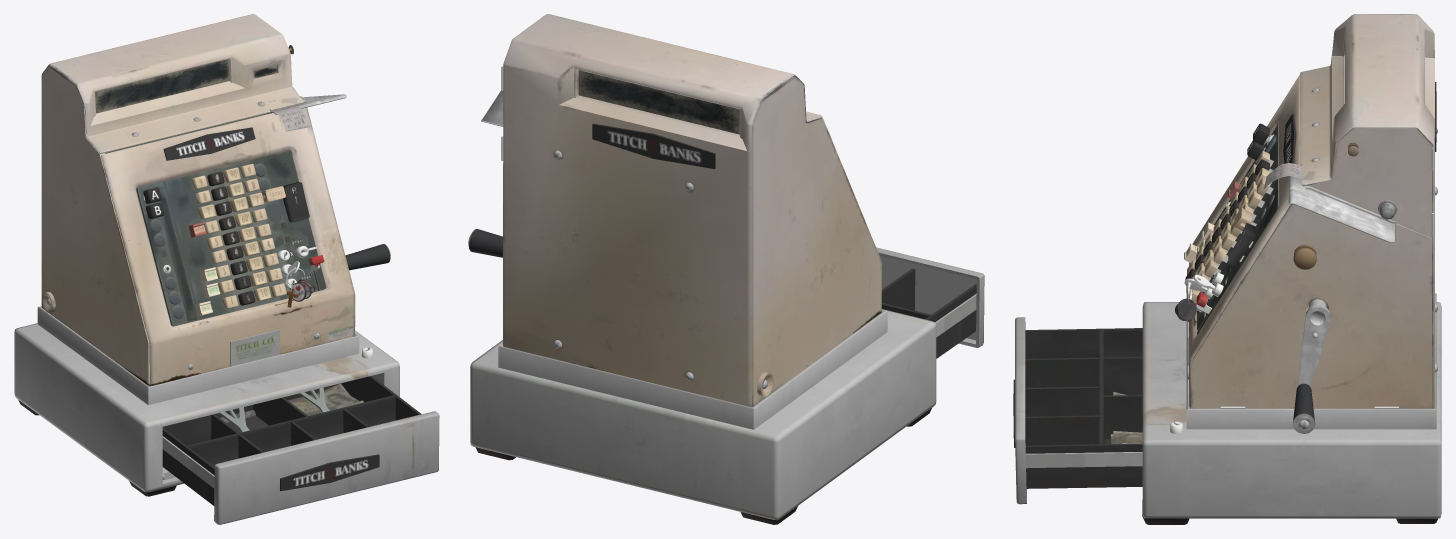
File: CashRegister_01.glb
3 renders of one model, left to right at view 1: azimuth 30°, elevation 25°; view 2: azimuth 150°, elevation 25°; view 3: azimuth 270°, elevation 25°, orthographic. The views are drawn at different scales.
Visible parts, largest first — view 1: CashRegister_01_body; view 2: CashRegister_01_body; view 3: CashRegister_01_body.
Part boxes in pixels (left/top/right/bottom): CashRegister_01_body: left=14, top=14, right=439, bottom=524; CashRegister_01_body: left=468, top=14, right=984, bottom=524; CashRegister_01_body: left=1013, top=14, right=1441, bottom=524.
Bounding box in the file's own units: 0.6005 × 0.6213 × 0.6242.
Materials: 2 (2 with a texture image).
